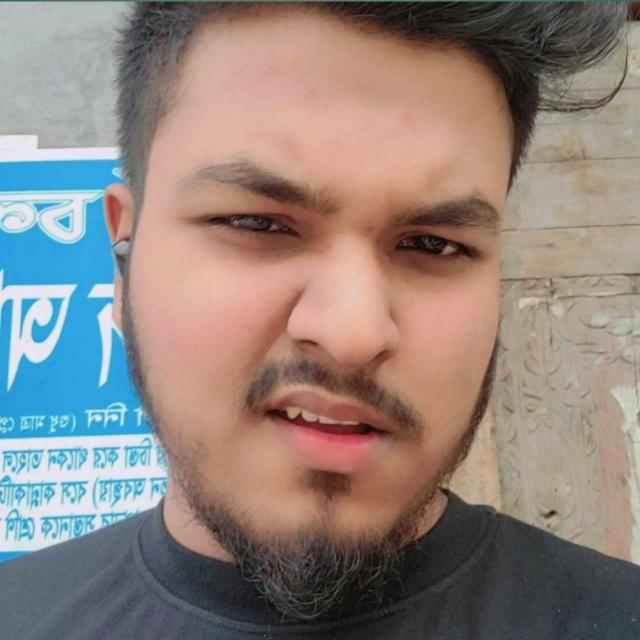Disgust: (27, 16, 616, 605)
